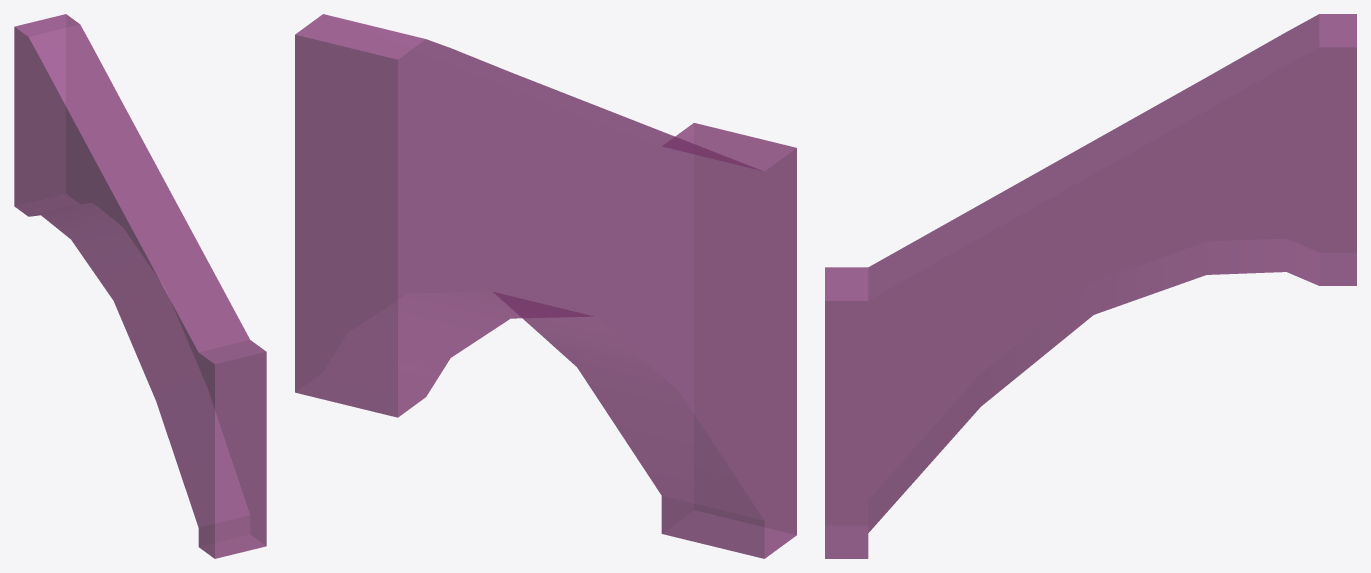
The model's file is SM_Bld_Buttress_01_Collision.fbx.
3 views of the same model, side by side, from view 1: azimuth 30°, elevation 25°; view 2: azimuth 150°, elevation 25°; view 3: azimuth 270°, elevation 25° (orthographic). The views are drawn at different scales.
Parts seen in each view (by area): view 1: SM_Bld_Buttress_01_Collision; view 2: SM_Bld_Buttress_01_Collision; view 3: SM_Bld_Buttress_01_Collision.
Boxes of the visible parts, x1,y1,x2,y2 form: SM_Bld_Buttress_01_Collision: (14,14,266,558); SM_Bld_Buttress_01_Collision: (295,14,796,558); SM_Bld_Buttress_01_Collision: (825,14,1356,558).
Size of the model in its own units: 80.44 by 573 by 540.
